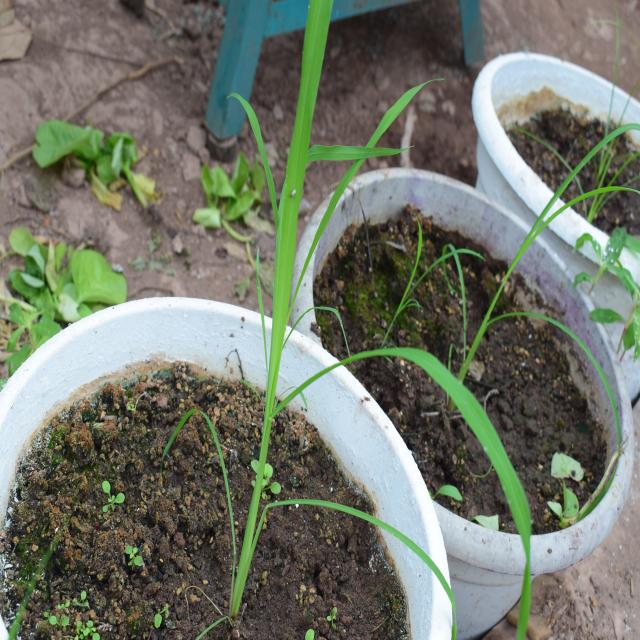barnyard_grass: (219, 2, 553, 615)
